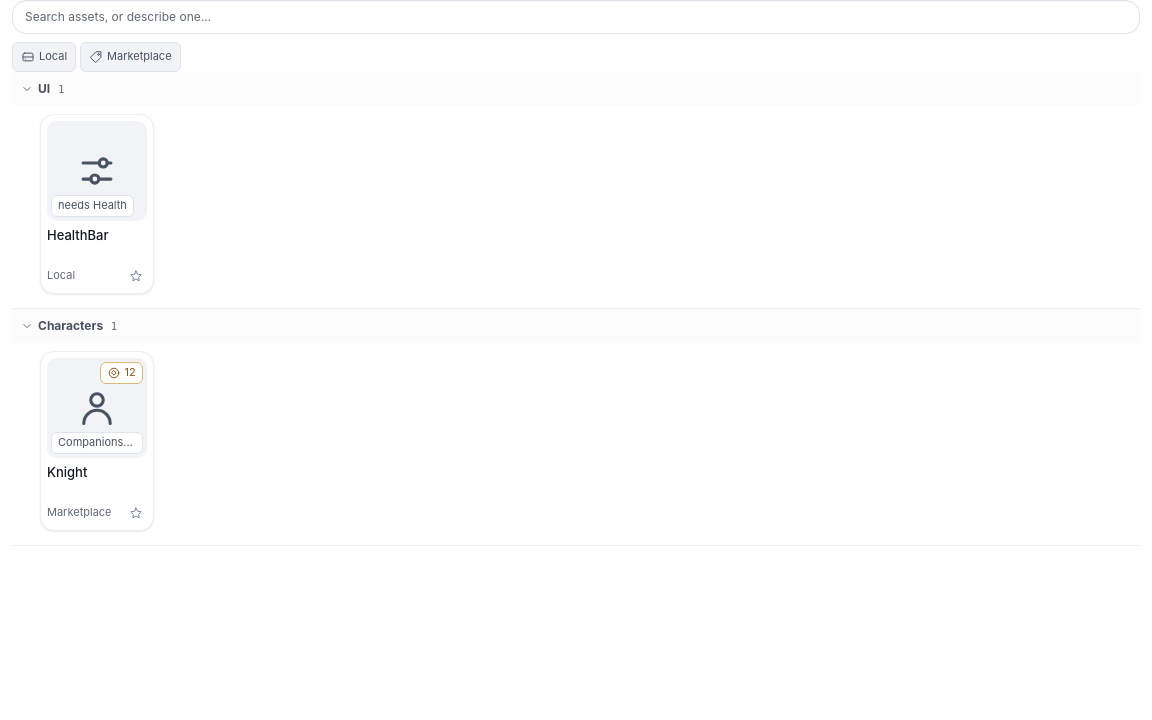
Test: cancelling the confirm spends nothing and leaves the catalog exactly as it was
This screenshot has width=1152, height=720.
Click the button with test id "asset-item" showing "12 Companions (acme) Knight" at (97, 428), box [47,358,147,498]
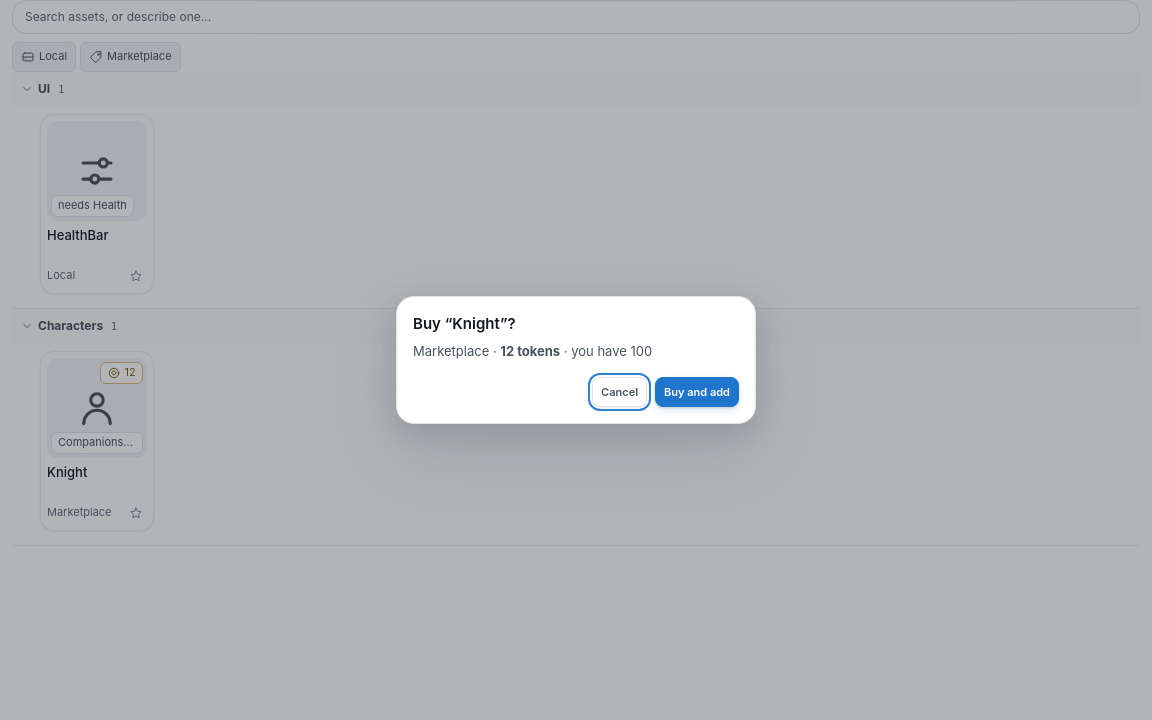
Click the button with test id "asset-buy-cancel" at (620, 392), box [592,377,647,407]
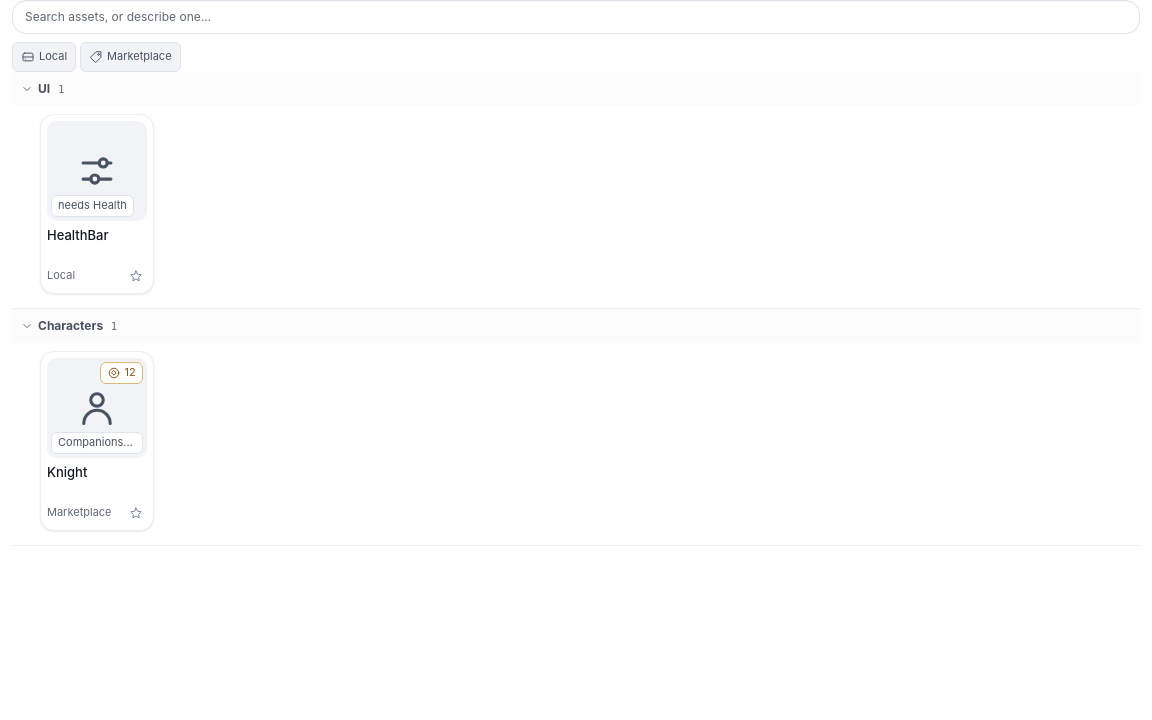
Expected: the element with test id "asset-buy-guard" is gone
